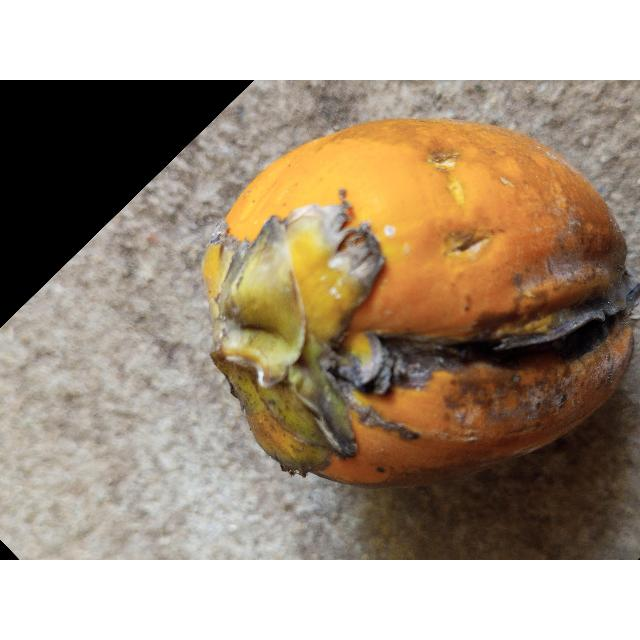damaged: (201, 119, 640, 491)
